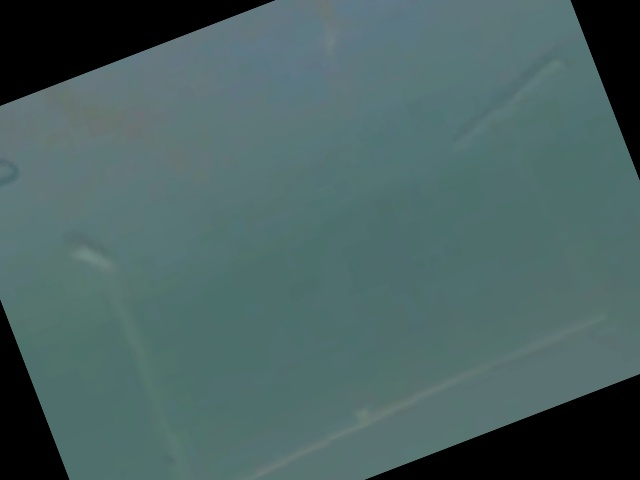gate: (59, 39, 619, 480)
